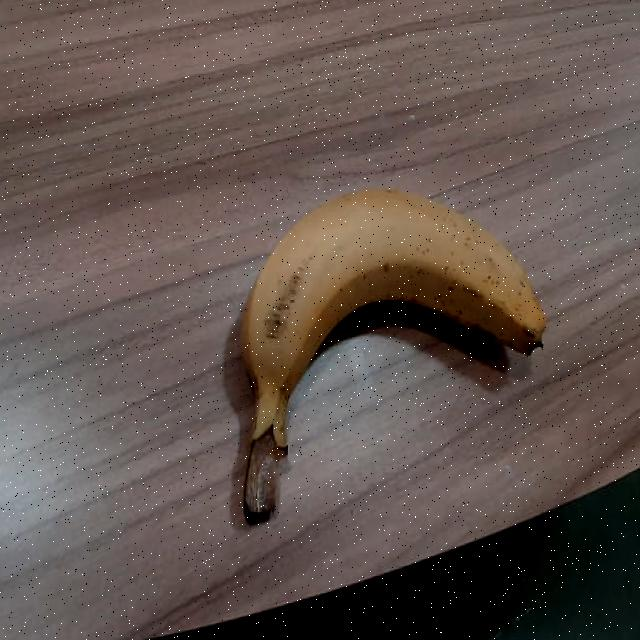Ripe: (220, 161, 556, 540)
